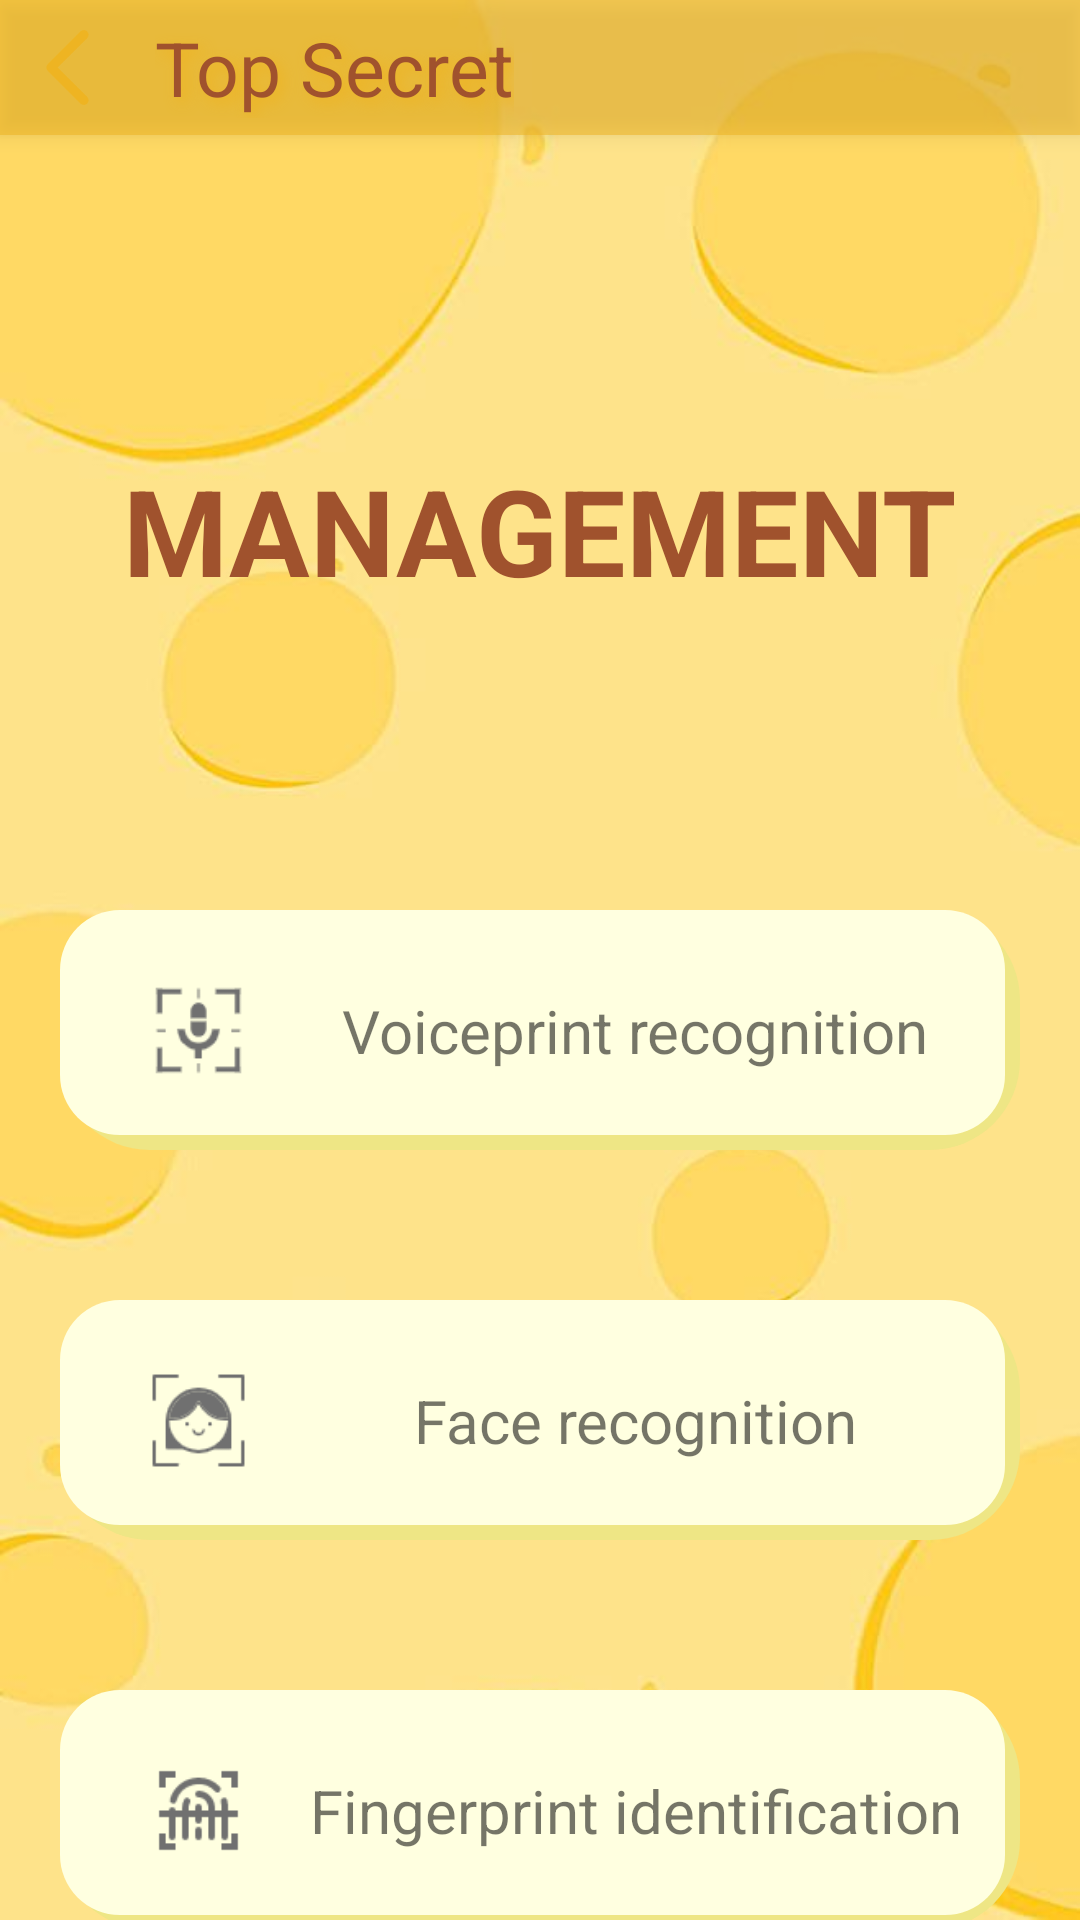

Named icons in this screenshot (1080w x 1920h) and their centers, (x=x, y=y):
select face: (x=198, y=1420)
select finger: (x=198, y=1810)
select voice: (x=198, y=1030)
title back: (x=67, y=67)
